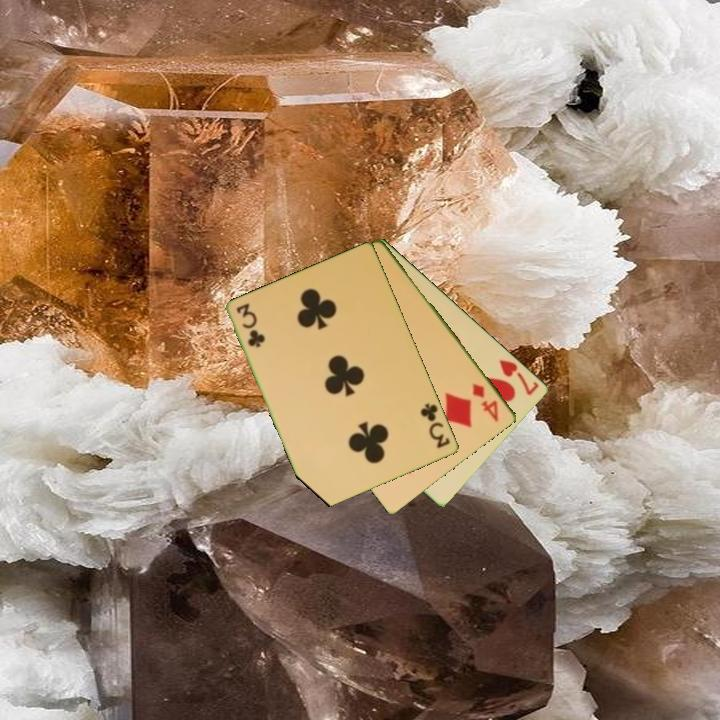3c: (417, 400, 453, 451), (233, 300, 267, 350)
4d: (469, 379, 502, 425)
7h: (496, 356, 542, 398)
